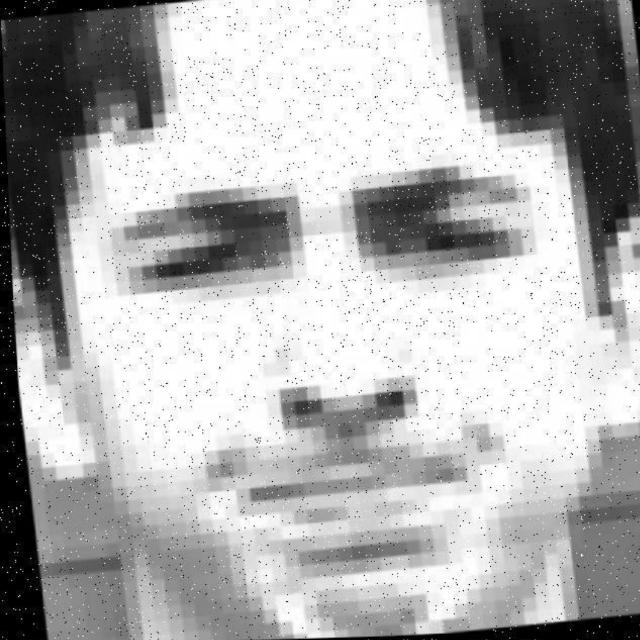Disgust: (28, 42, 640, 640)
